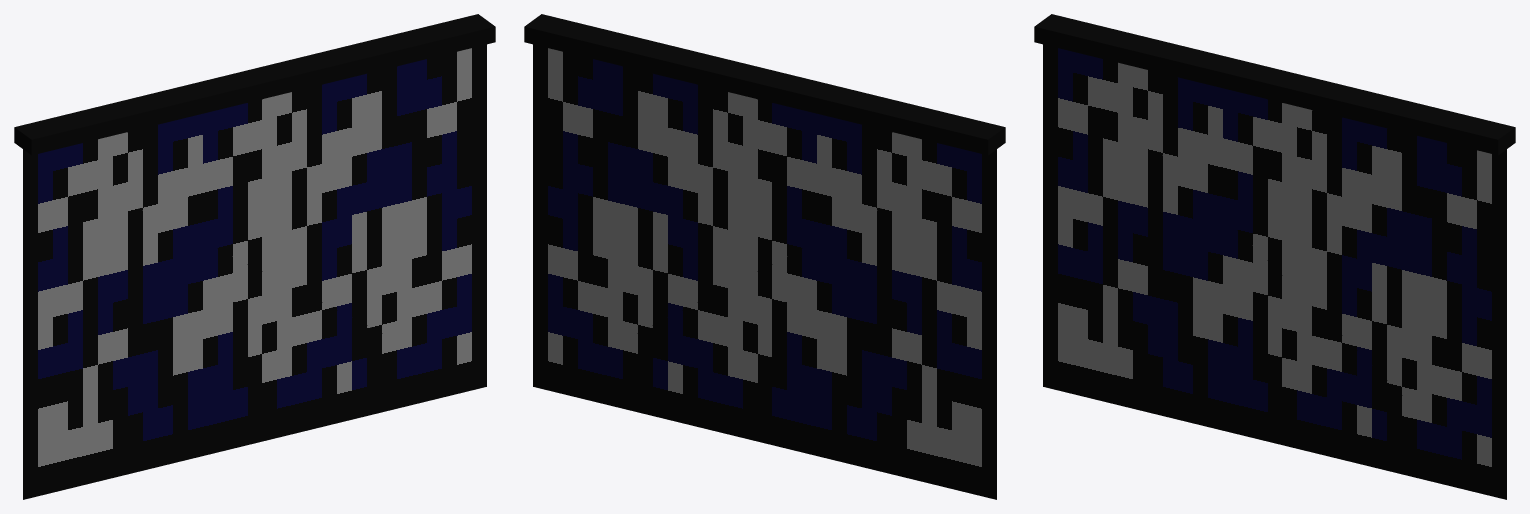
File: window_438x07.obj
3 renders of one model, left to right at view 1: azimuth 30°, elevation 25°; view 2: azimuth 150°, elevation 25°; view 3: azimuth 330°, elevation 25°, orthographic.
Parts seen in each view (by area): view 1: Plane.001; view 2: Plane.001; view 3: Plane.001.
Boxes of the visible parts, left/top/right/bottom form: Plane.001: left=14, top=14, right=495, bottom=499; Plane.001: left=524, top=14, right=1005, bottom=499; Plane.001: left=1034, top=14, right=1515, bottom=499.
Size of the model in its own units: 3.88 by 2.92 by 0.25.
